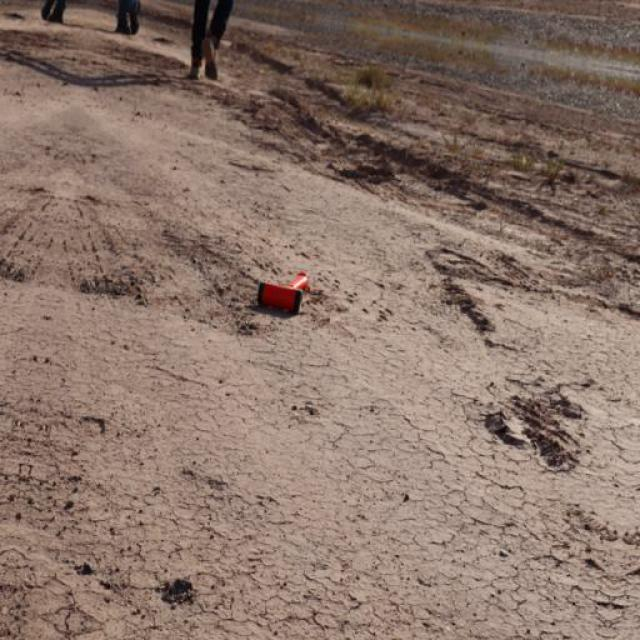mallet: (255, 269, 310, 315)
